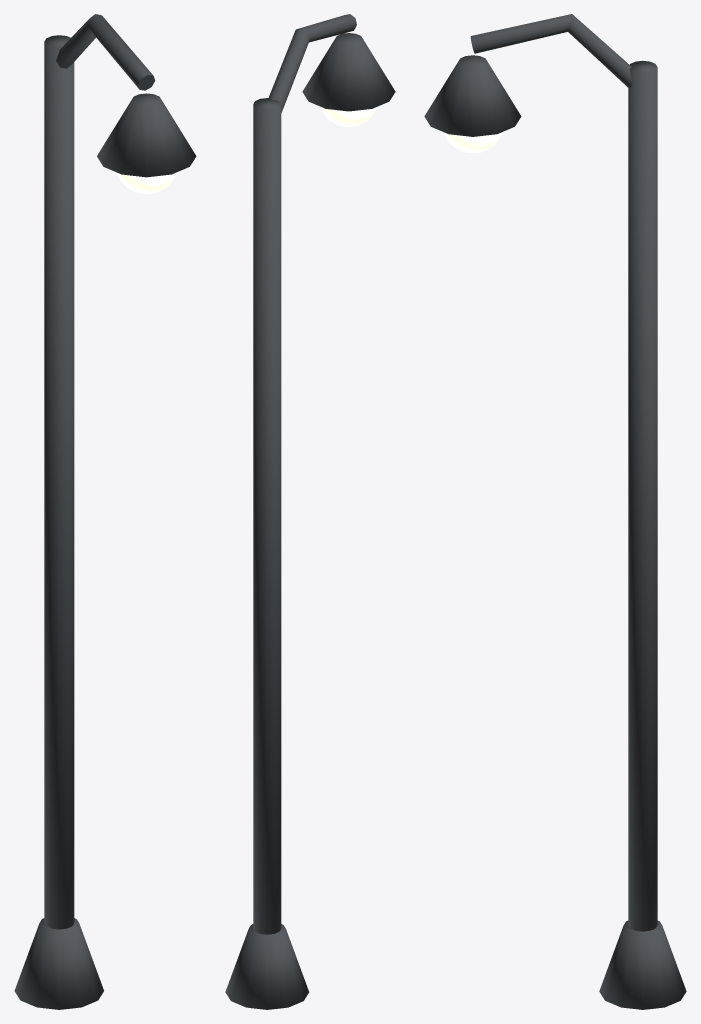
Rendered from lamp.glb.
3 views of the same model, side by side, from view 1: azimuth 30°, elevation 25°; view 2: azimuth 150°, elevation 25°; view 3: azimuth 270°, elevation 25° (orthographic). The views are drawn at different scales.
Visible parts, largest first — view 1: lamp; view 2: lamp; view 3: lamp.
Boxes of the visible parts, left/top/right/bottom form: lamp: left=14, top=14, right=196, bottom=1009; lamp: left=225, top=14, right=395, bottom=1009; lamp: left=424, top=14, right=686, bottom=1009.
Bounding box in the file's own units: 0.4 × 4.44 × 1.08.
